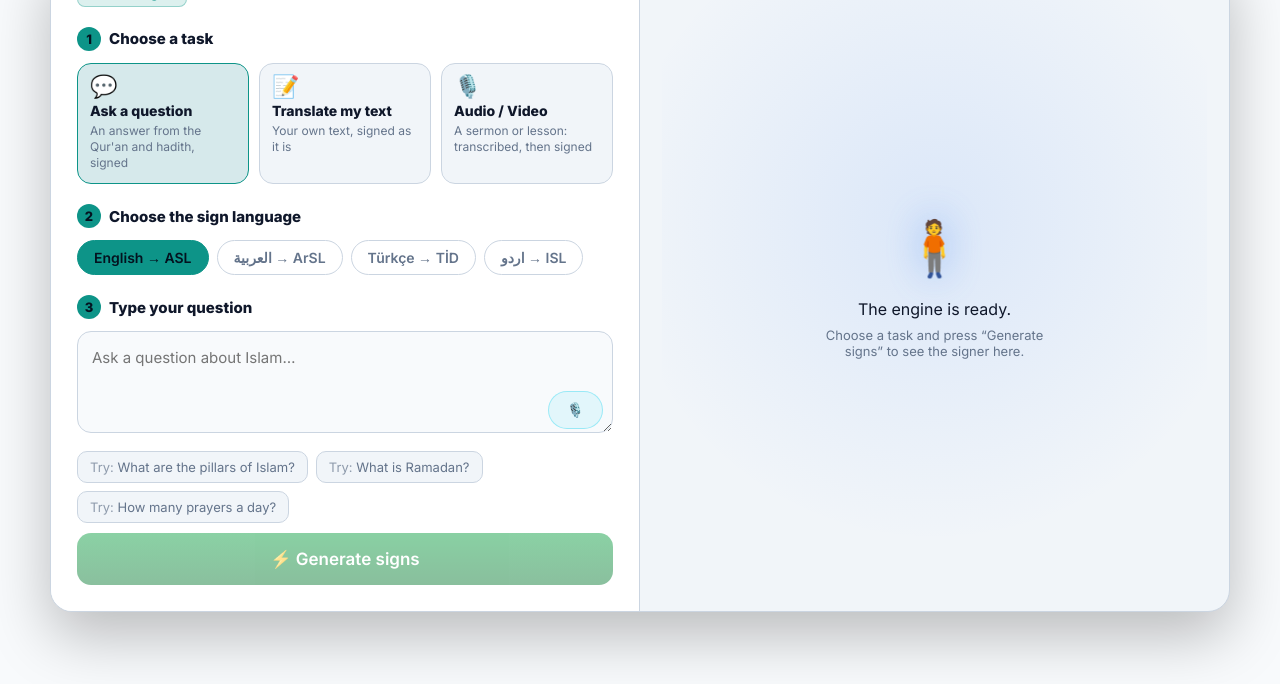
Test: switching tab while pending discards the late answer
(page scrolled)
Type "late" into the text box at (345, 382), box top-left (77, 331), bottom-right (613, 433)
(page scrolled)
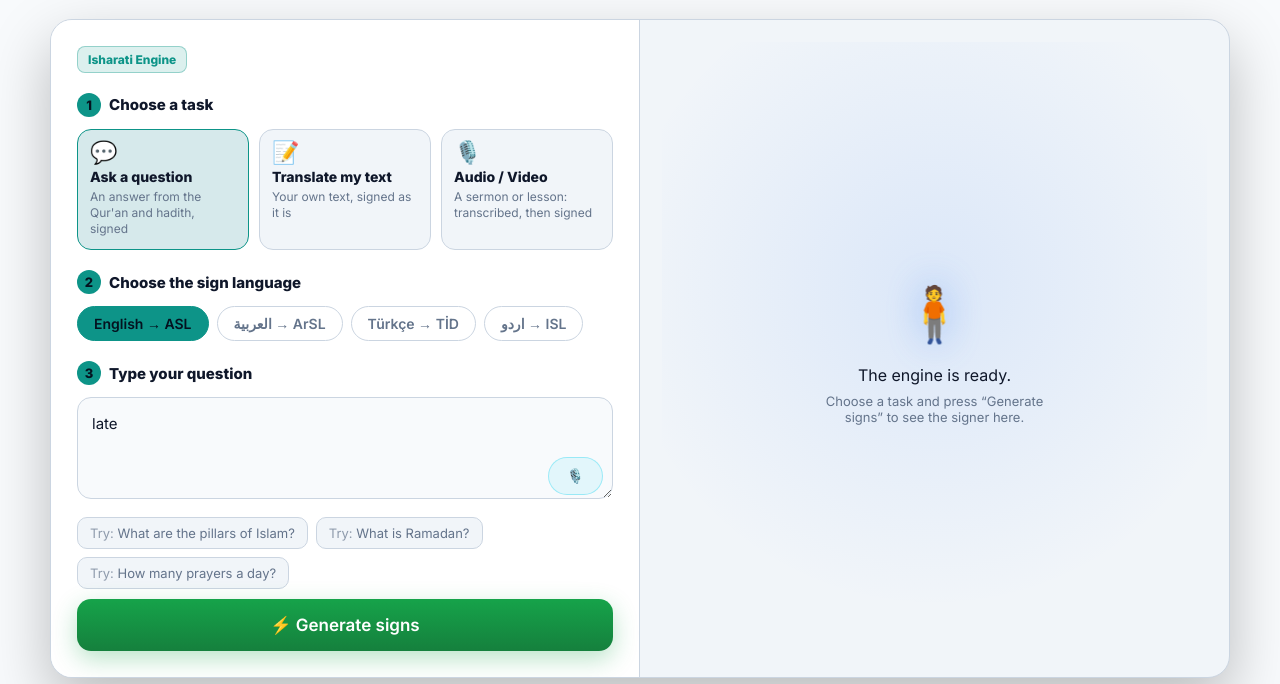
Submit the form, box top-left (51, 20), bottom-right (640, 677)
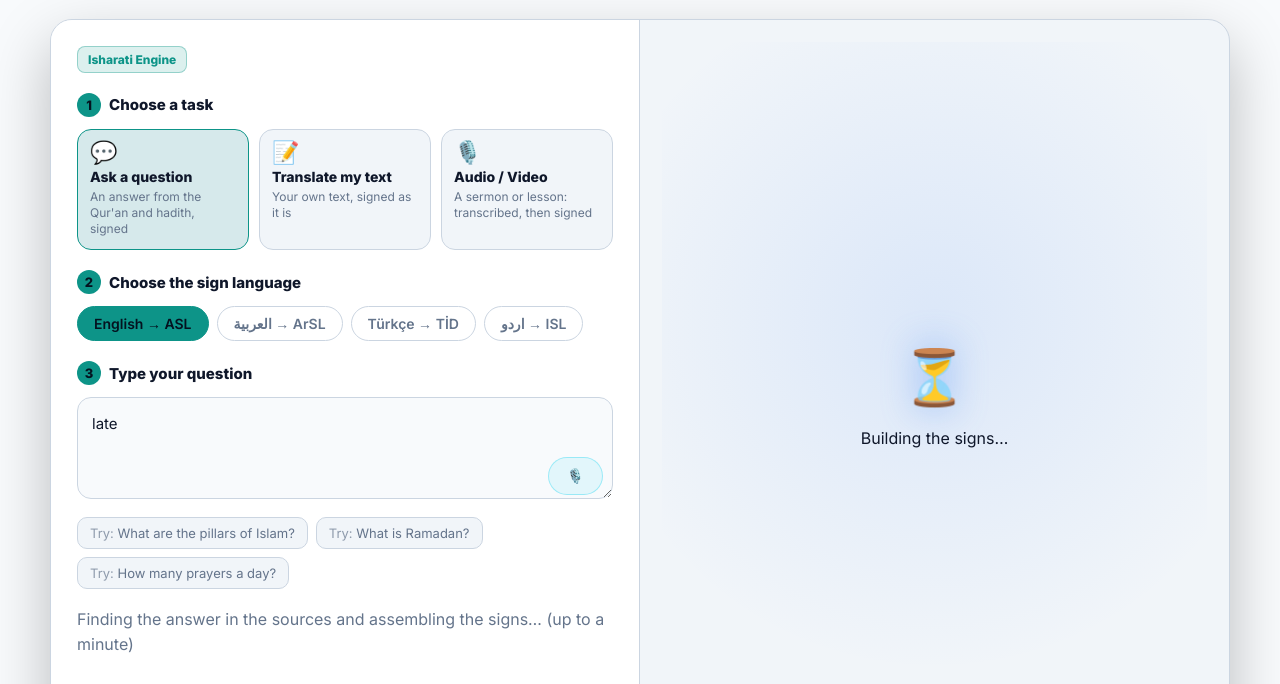
Click the tab "العربية → ArSL" at (280, 324), box top-left (216, 306), bottom-right (343, 341)
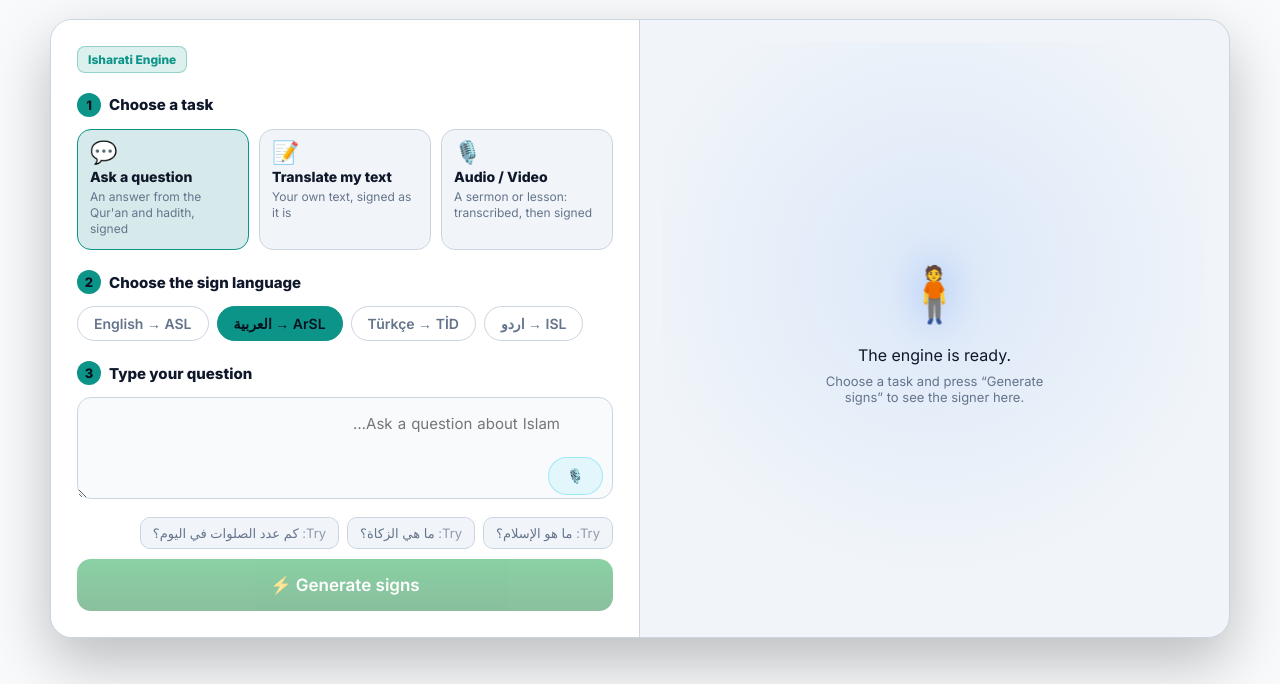
Result: the text "Finding the answer in the sources and assembling the signs… (up to a minute)" is gone
